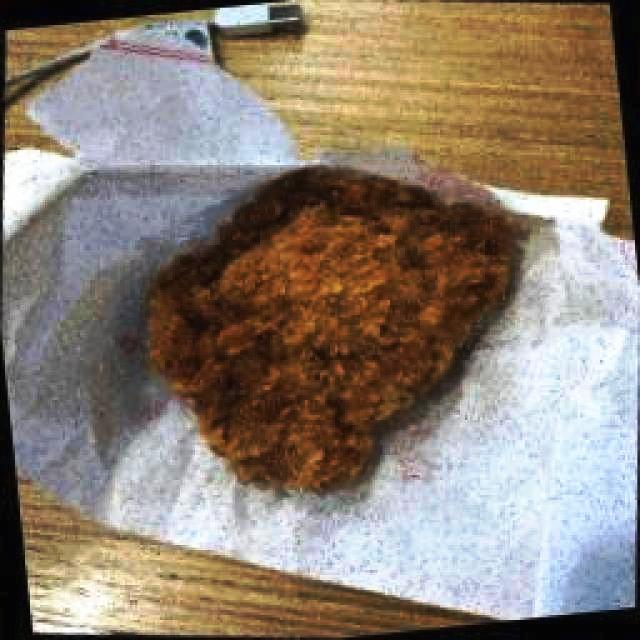fried_chicken: (149, 166, 526, 492)
